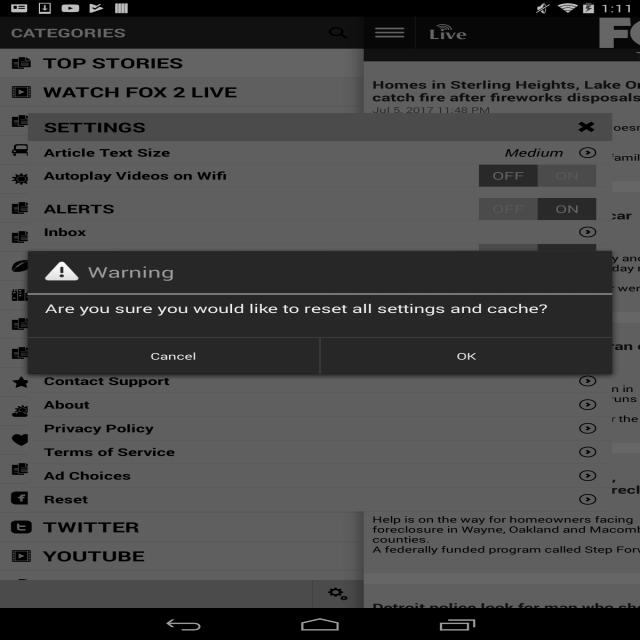ImageButton: (370, 21, 408, 43)
ImageView: (39, 259, 84, 283)
Switch: (472, 194, 603, 223), (472, 160, 604, 187)
TextView: (41, 301, 556, 316), (373, 80, 626, 104), (39, 167, 244, 183), (38, 84, 239, 98), (38, 514, 153, 536), (41, 55, 186, 71), (6, 24, 137, 40), (90, 264, 184, 282), (42, 467, 140, 484), (139, 346, 210, 366), (442, 346, 496, 366), (41, 397, 104, 412), (421, 26, 472, 42)
